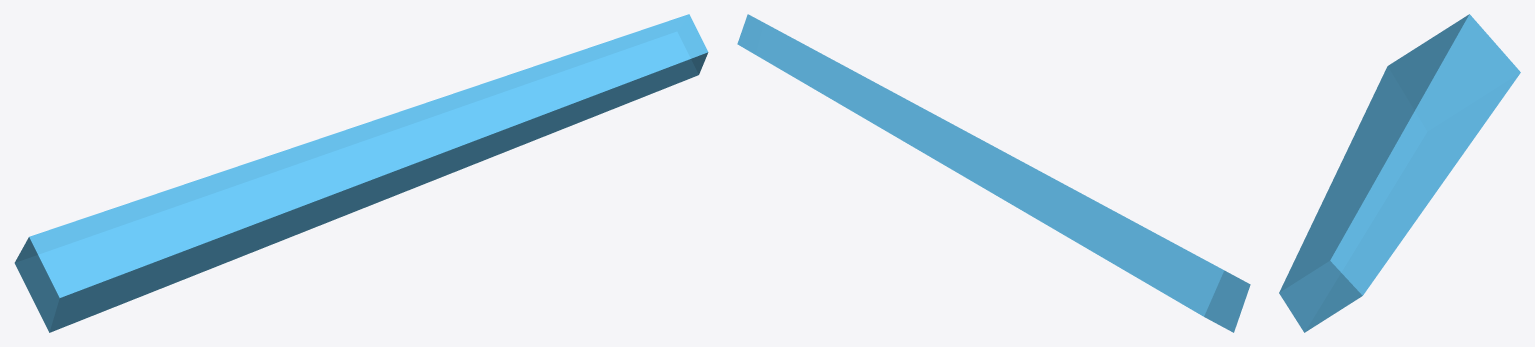
Rendered from Event_421115418_HErechit_16.fbx.
The picture shows the model from 3 angles, left to right: view 1: azimuth 30°, elevation 25°; view 2: azimuth 150°, elevation 25°; view 3: azimuth 270°, elevation 25°; orthographic projection. The views are drawn at different scales.
Visible parts, largest first — view 1: Model; view 2: Model; view 3: Model.
Part boxes in pixels (left/top/right/bottom): Model: left=14, top=14, right=708, bottom=332; Model: left=737, top=14, right=1250, bottom=332; Model: left=1279, top=14, right=1520, bottom=332.
Bounding box in the file's own units: 6.17 × 1.92 × 1.59.
